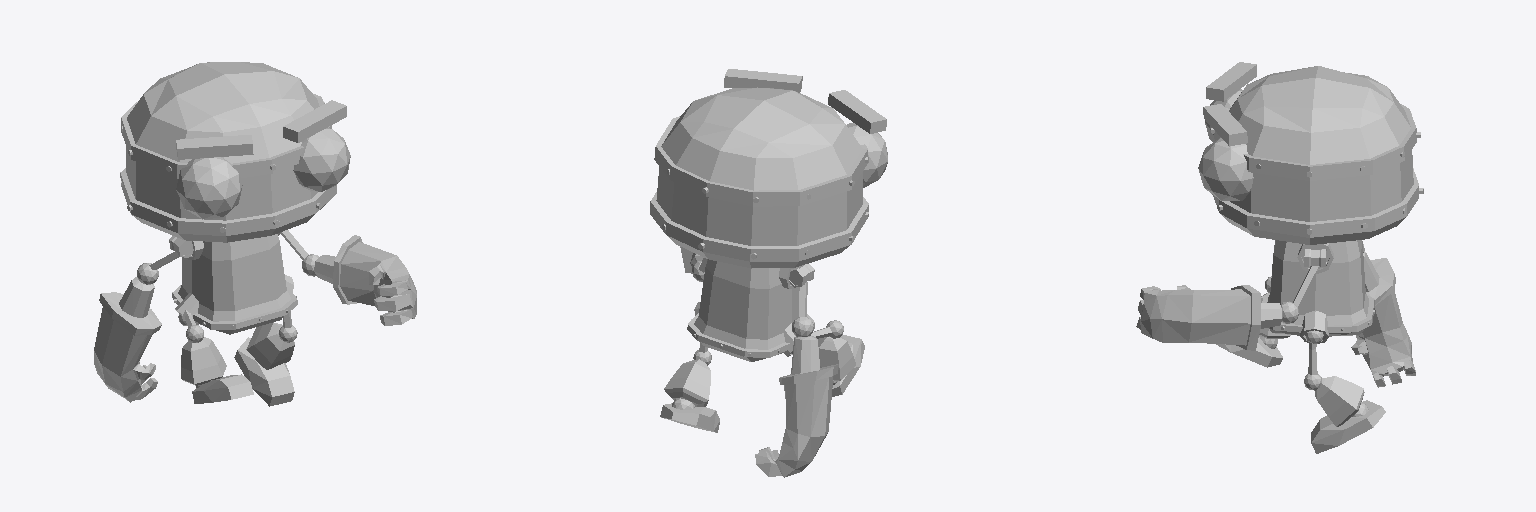
Rendered from Robot_000009.obj.
The picture shows the model from 3 angles: view 1: azimuth 30°, elevation 25°; view 2: azimuth 150°, elevation 25°; view 3: azimuth 270°, elevation 25°; orthographic projection.
Parts seen in each view (by area): view 1: Head_Cylinder, Torso_Cube.001, Hand.R_Cylinder.015, Hand.L_Cylinder.022, Foot.L_Cylinder.014, LowerLeg.R_Cylinder.018, LowerLeg.L_Cylinder.012, Foot.R_Cylinder.017, Arm.R_Cylinder.013, Arm.L_Cylinder.010; view 2: Head_Cylinder, Torso_Cube.001, Hand.R_Cylinder.015, LowerLeg.L_Cylinder.012, LowerLeg.R_Cylinder.018, Foot.L_Cylinder.014, Foot.R_Cylinder.017, Arm.R_Cylinder.013; view 3: Head_Cylinder, Torso_Cube.001, Hand.L_Cylinder.022, Hand.R_Cylinder.015, LowerLeg.L_Cylinder.012, Foot.L_Cylinder.014, Foot.R_Cylinder.017, Arm.L_Cylinder.010.
Part boxes in pixels (left/top/right/bottom): Head_Cylinder: left=120, top=62, right=350, bottom=242; Torso_Cube.001: left=172, top=232, right=297, bottom=334; Hand.R_Cylinder.015: left=94, top=277, right=161, bottom=402; Hand.L_Cylinder.022: left=314, top=235, right=416, bottom=325; Foot.L_Cylinder.014: left=234, top=337, right=294, bottom=406; LowerLeg.R_Cylinder.018: left=181, top=337, right=226, bottom=388; LowerLeg.L_Cylinder.012: left=246, top=322, right=294, bottom=369; Foot.R_Cylinder.017: left=192, top=374, right=253, bottom=403; Arm.R_Cylinder.013: left=137, top=251, right=179, bottom=284; Arm.L_Cylinder.010: left=280, top=230, right=318, bottom=276; Head_Cylinder: left=650, top=69, right=887, bottom=267; Torso_Cube.001: left=687, top=259, right=814, bottom=361; Hand.R_Cylinder.015: left=755, top=336, right=838, bottom=477; LowerLeg.L_Cylinder.012: left=664, top=359, right=710, bottom=409; LowerLeg.R_Cylinder.018: left=818, top=337, right=855, bottom=384; Foot.L_Cylinder.014: left=660, top=403, right=719, bottom=432; Foot.R_Cylinder.017: left=832, top=335, right=864, bottom=396; Arm.R_Cylinder.013: left=792, top=282, right=813, bottom=336; Head_Cylinder: left=1198, top=62, right=1423, bottom=244; Torso_Cube.001: left=1262, top=240, right=1374, bottom=343; Hand.L_Cylinder.022: left=1136, top=285, right=1282, bottom=350; Hand.R_Cylinder.015: left=1351, top=251, right=1415, bottom=387; LowerLeg.L_Cylinder.012: left=1315, top=376, right=1368, bottom=426; Foot.L_Cylinder.014: left=1311, top=400, right=1385, bottom=453; Foot.R_Cylinder.017: left=1216, top=337, right=1282, bottom=367; Arm.L_Cylinder.010: left=1281, top=266, right=1318, bottom=323.
Bounding box in the file's own units: 2.9 × 4.46 × 3.38.